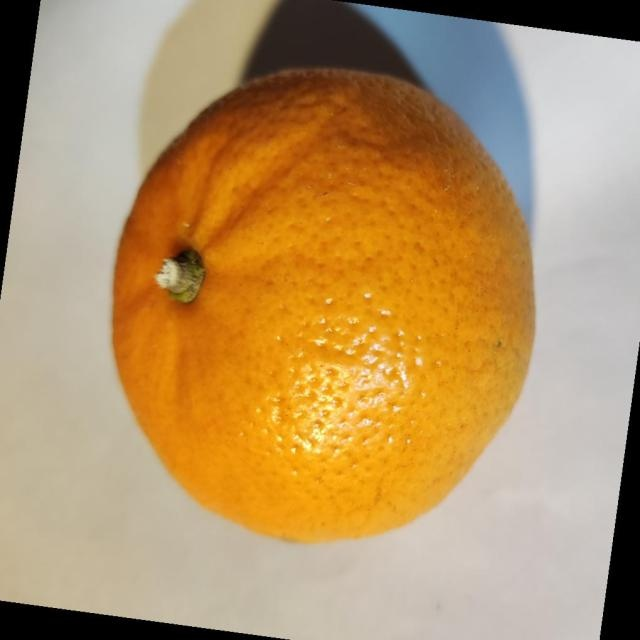agrume: (110, 65, 537, 544)
